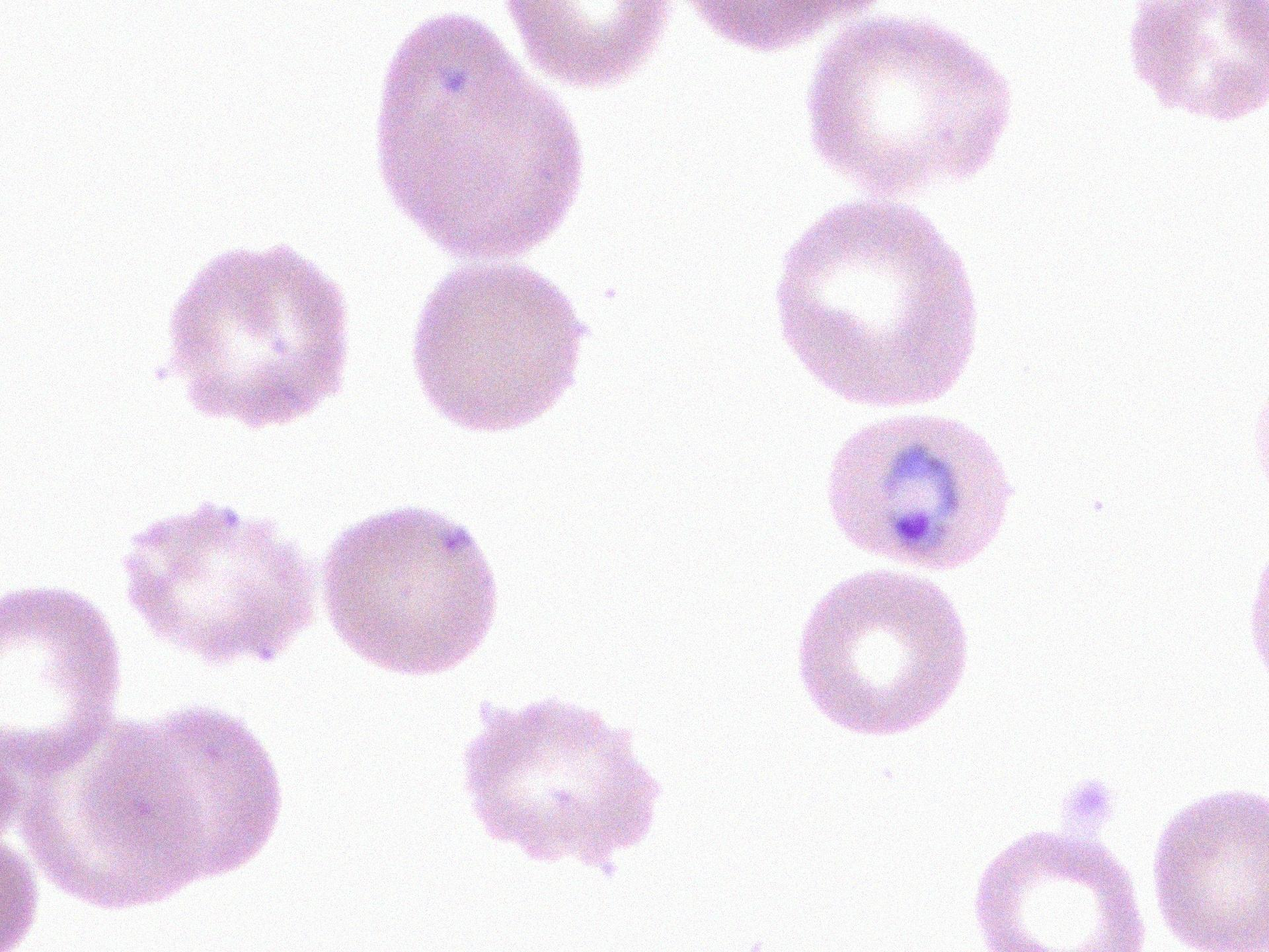Infected: (831, 420, 1010, 566)
Uninfected: (373, 15, 583, 258), (773, 200, 982, 404), (808, 15, 1011, 193), (18, 712, 198, 911), (173, 248, 344, 430), (463, 706, 658, 863), (126, 506, 312, 657), (327, 512, 500, 673), (411, 270, 584, 430), (800, 573, 966, 738), (127, 709, 279, 879), (0, 590, 123, 768), (973, 838, 1146, 952), (1153, 788, 1269, 952), (1134, 0, 1269, 123)
